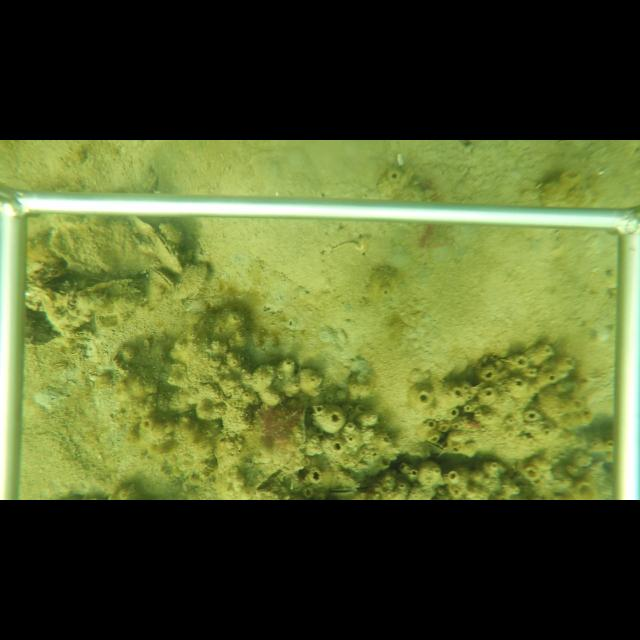Oyster-Closed: (174, 263, 212, 301), (146, 267, 175, 294)
Oyster-Open: (147, 231, 185, 273)
